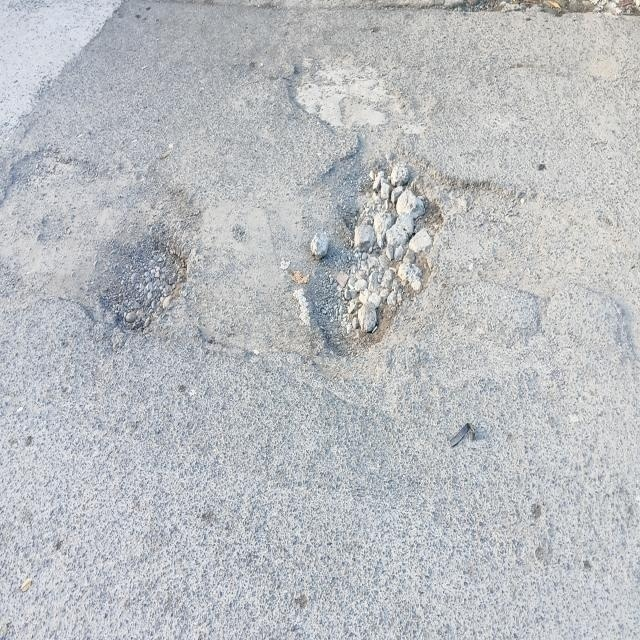pothole: (240, 2, 566, 423), (0, 121, 205, 416)
